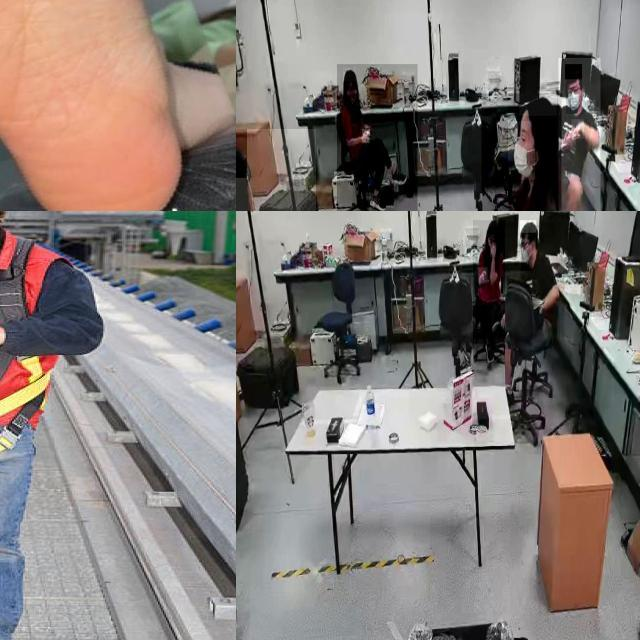Barefoots: (0, 0, 199, 211)
Harness: (0, 237, 58, 472)
face_mask: (508, 121, 535, 180), (566, 79, 582, 114), (521, 236, 533, 271)
face_nomask: (345, 85, 357, 104), (487, 236, 497, 248)
hand_noglove: (561, 131, 577, 147), (572, 119, 584, 140), (478, 268, 488, 284), (362, 129, 370, 144), (490, 242, 496, 258)
head_nohelmet: (520, 94, 558, 116), (236, 129, 247, 179), (565, 64, 583, 80), (519, 220, 537, 234), (343, 68, 357, 82), (486, 219, 500, 232)
person: (337, 64, 418, 211), (481, 93, 562, 211), (502, 223, 560, 353), (558, 58, 601, 211), (473, 220, 505, 364)
